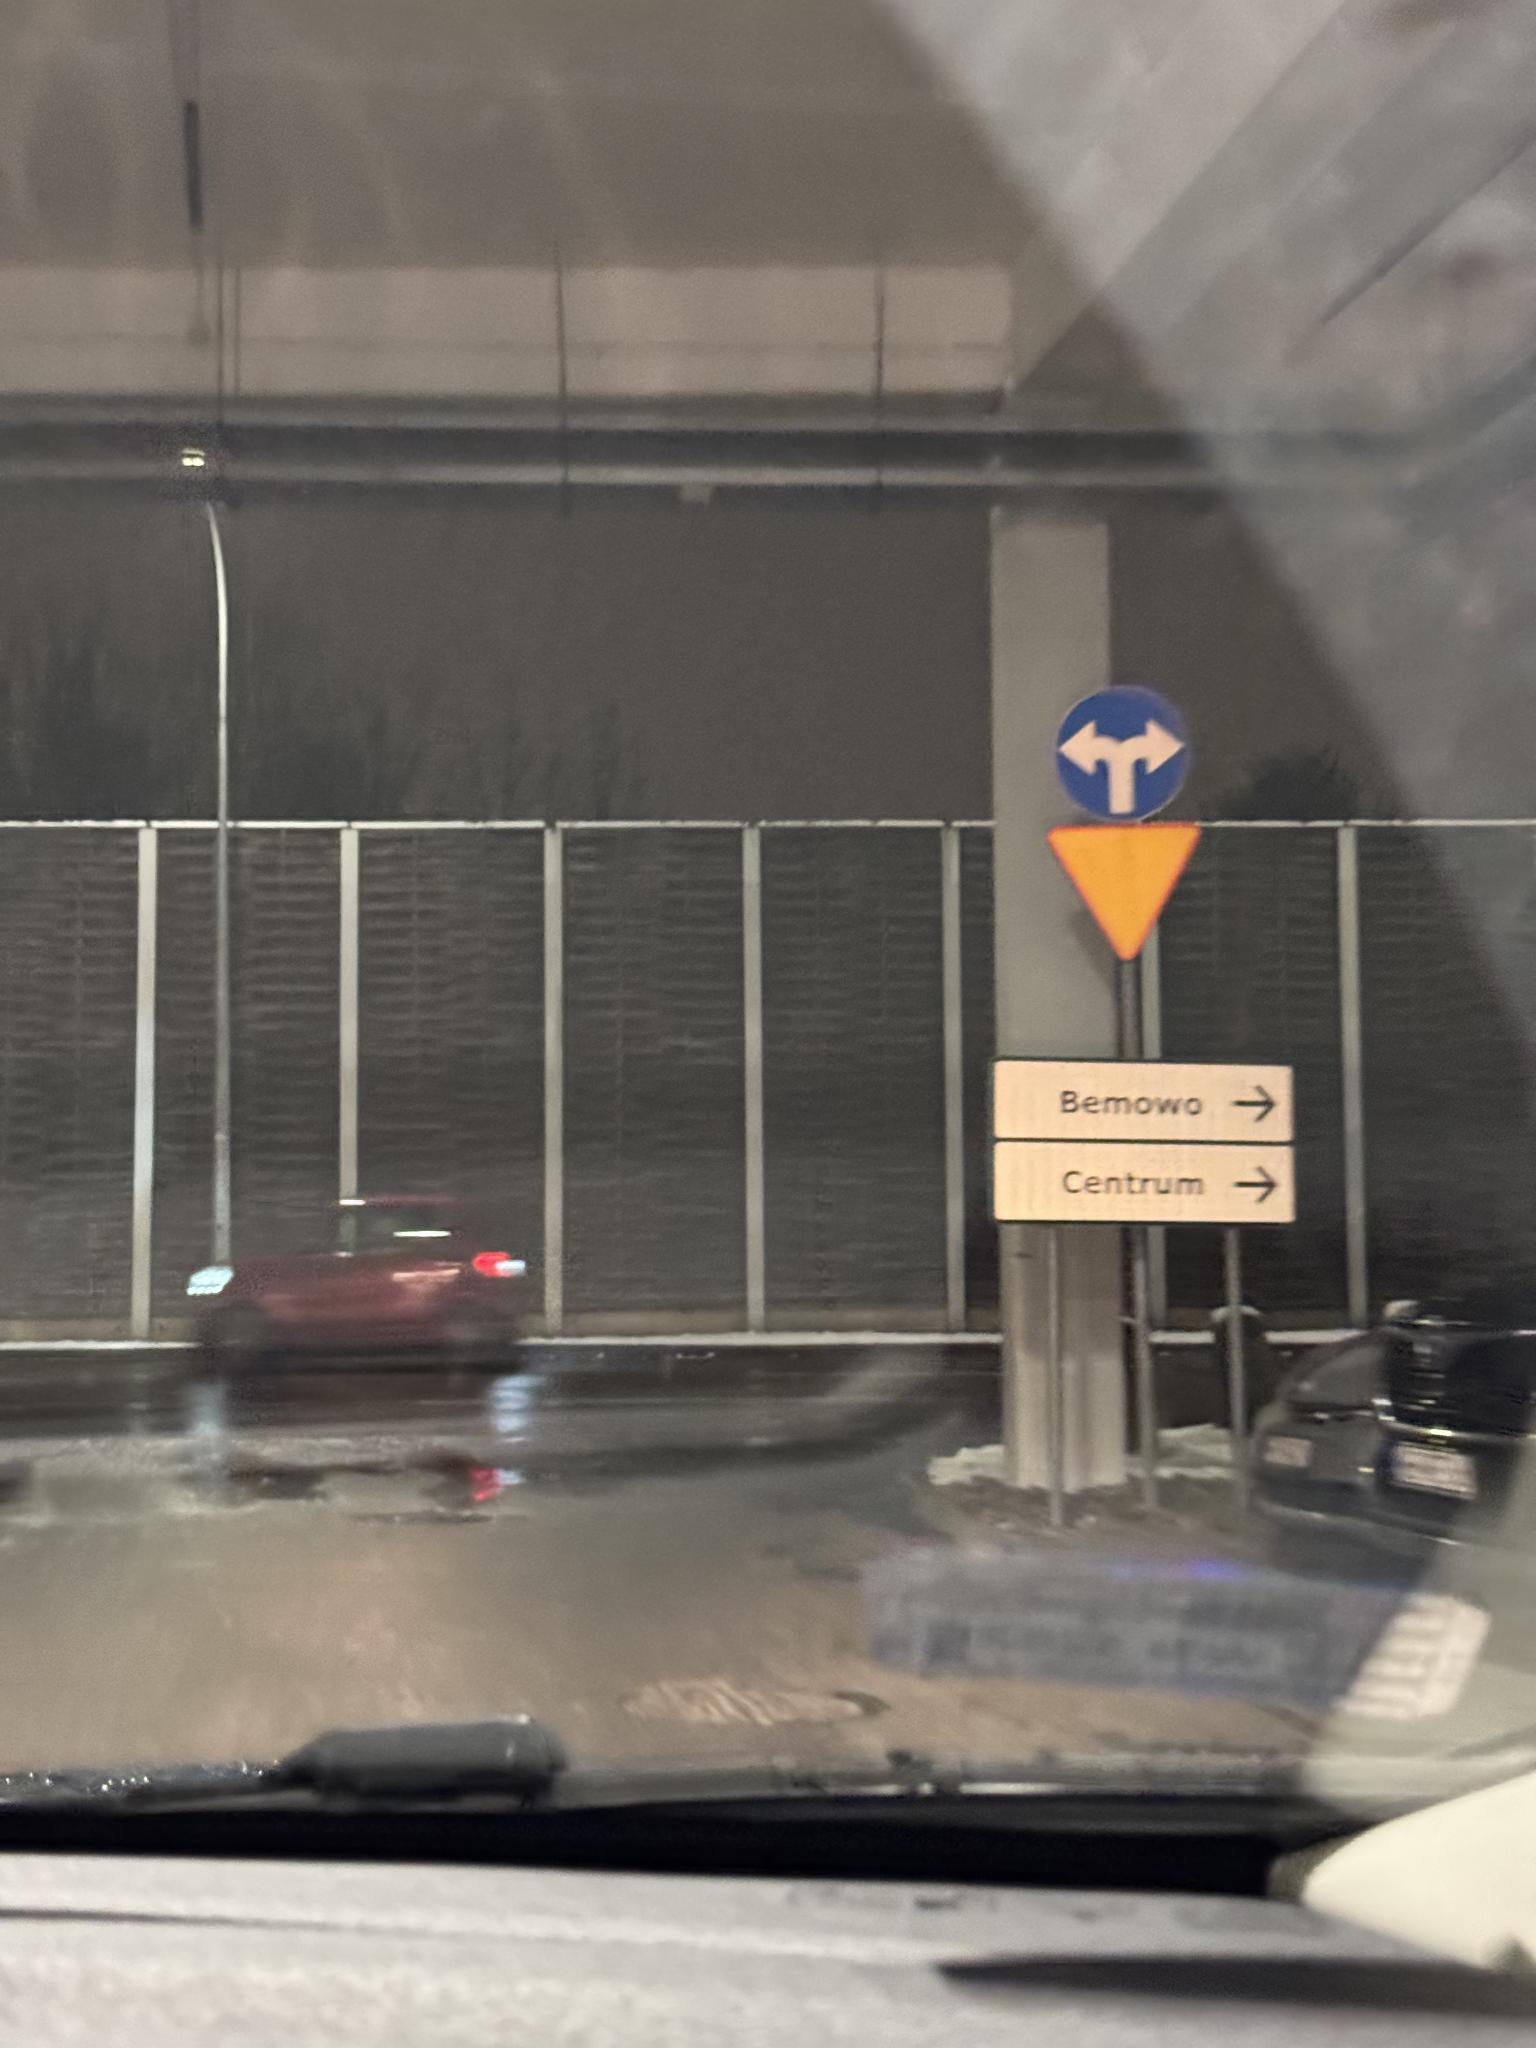mandatory: (1054, 684, 1194, 819)
warning: (1047, 821, 1205, 963)
